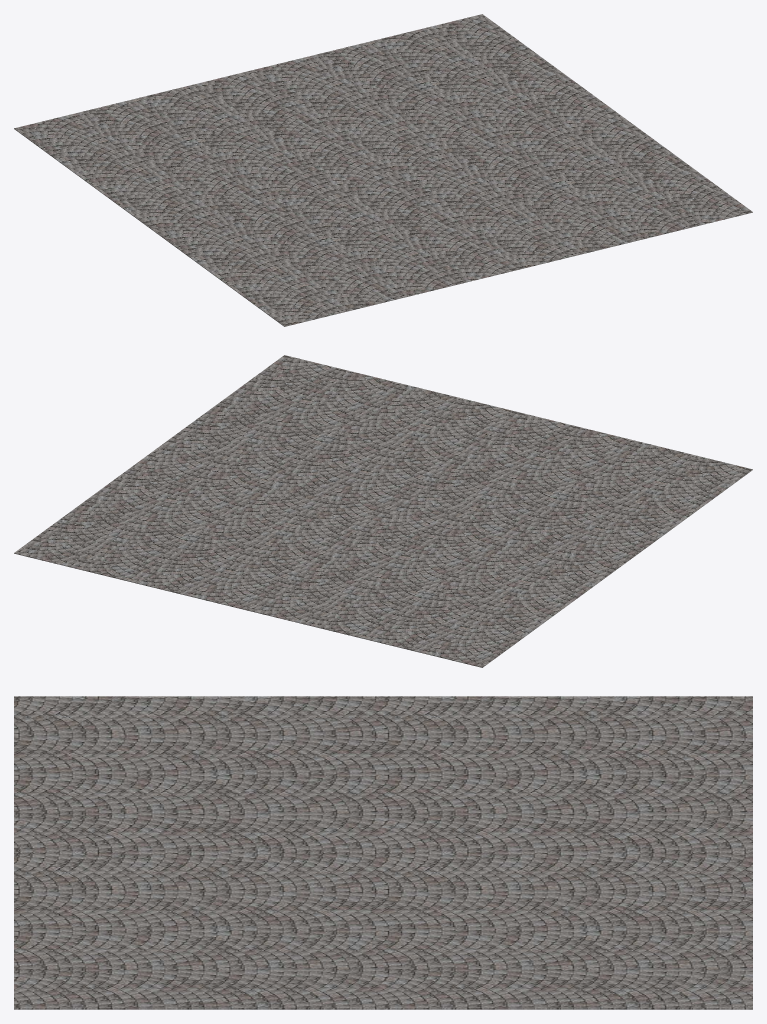
Rendered from floor.gltf.
3 views of the same model, one above another, from view 1: azimuth 30°, elevation 25°; view 2: azimuth 150°, elevation 25°; view 3: azimuth 270°, elevation 25° (orthographic). The views are drawn at different scales.
Parts seen in each view (by area): view 1: Floor; view 2: Floor; view 3: Floor.
Boxes of the visible parts, x1=… form: Floor: x1=14, y1=14, x2=752, y2=326; Floor: x1=14, y1=355, x2=752, y2=667; Floor: x1=14, y1=696, x2=752, y2=1009.
Size of the model in its own units: 16 by 0.0191 by 16.
Materials: 1 (1 with a texture image).
